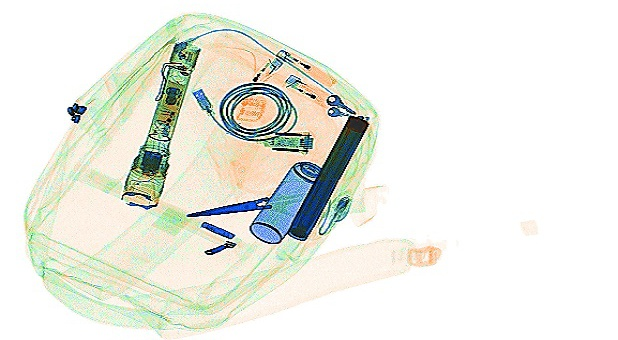lighter: (275, 49, 337, 90), (282, 74, 335, 110), (238, 55, 288, 90)
pressure: (249, 157, 322, 245)
scissors: (182, 180, 330, 228)
